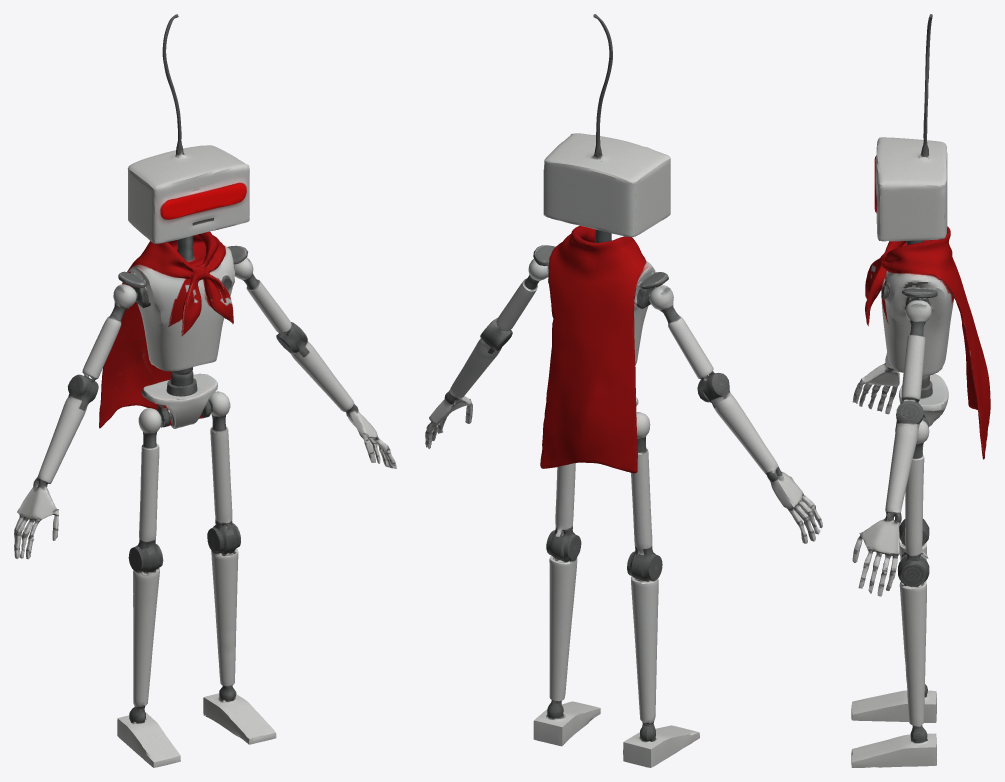
File: thinrobot.glb
3 views of the same model, side by side, from view 1: azimuth 30°, elevation 25°; view 2: azimuth 150°, elevation 25°; view 3: azimuth 270°, elevation 25° (orthographic). The views are drawn at different scales.
Size of the model in its own units: 1.05 by 1.9 by 0.3309.
Materials: 1 (1 with a texture image).
